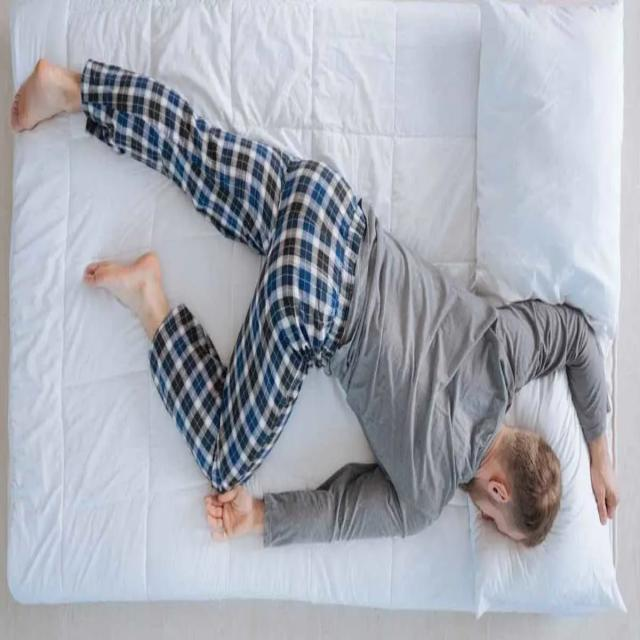sleeping-person: (8, 46, 625, 594)
